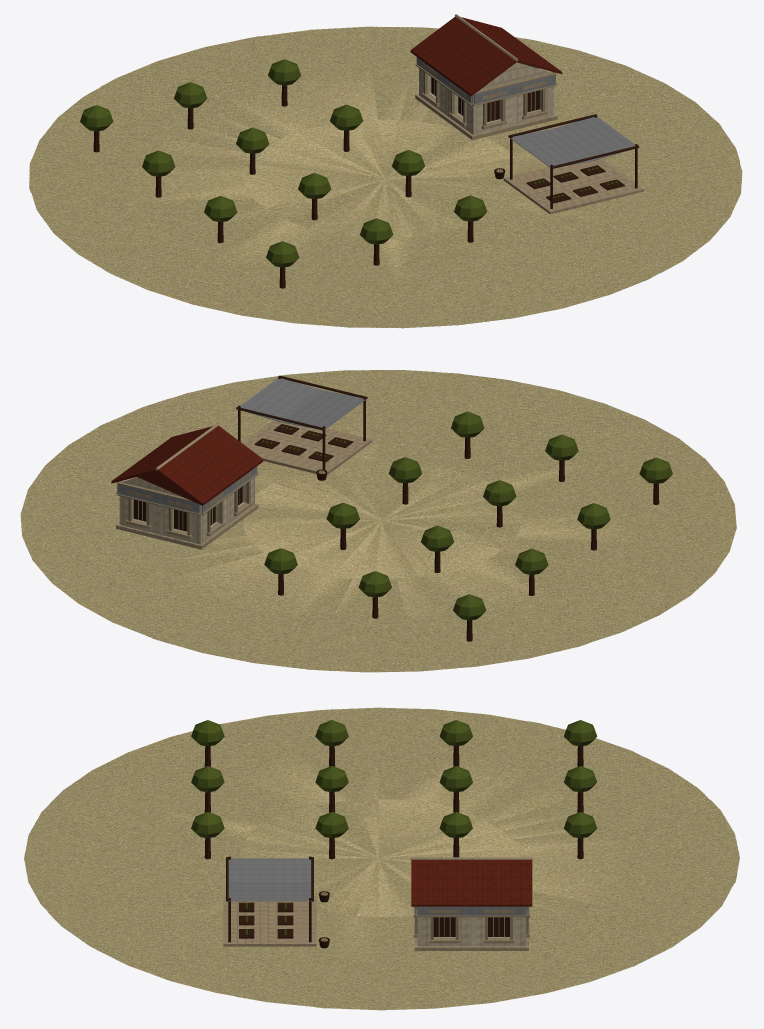
Rendered from plantation-bronze.glb.
3 renders of one model, top to bottom at view 1: azimuth 30°, elevation 25°; view 2: azimuth 150°, elevation 25°; view 3: azimuth 270°, elevation 25°, orthographic.
Parts seen in each view (by area): view 1: LOD0; view 2: LOD0; view 3: LOD0.
Part boxes in pixels (bbox=[...]): LOD0: bbox=[29, 14, 742, 328]; LOD0: bbox=[20, 370, 736, 672]; LOD0: bbox=[24, 707, 739, 1010].
Size of what is drawn, in the model's own units: 4.74 by 0.5155 by 4.74.
Materials: 3 (3 with a texture image).
